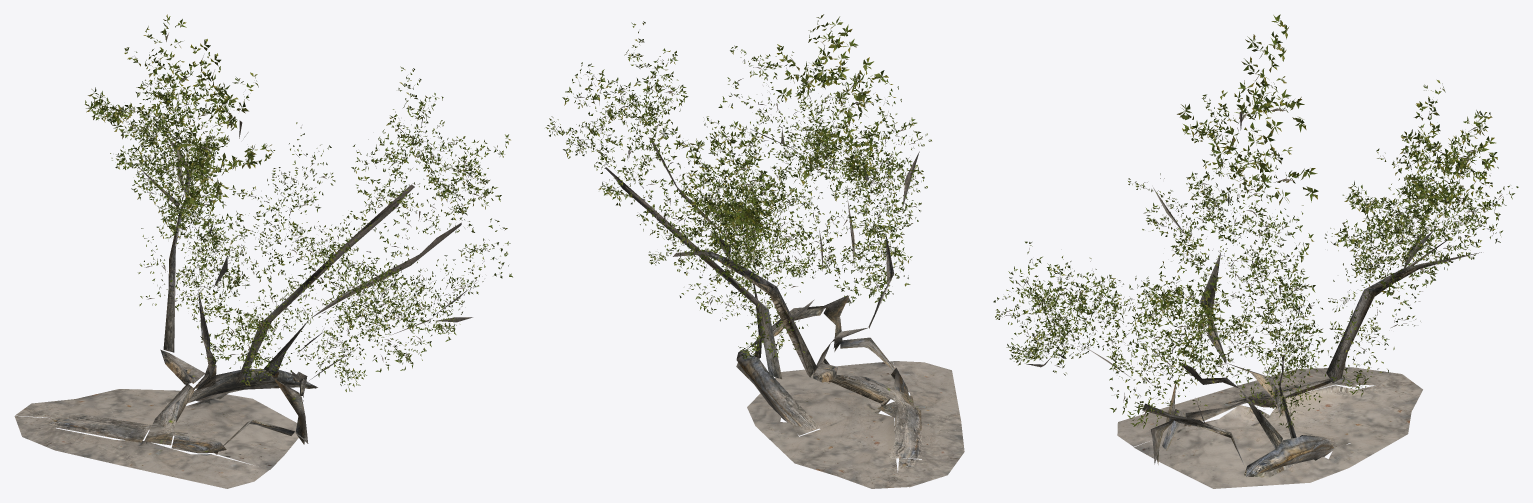
The model's file is island_tree_03_lod0.gltf.
3 views of the same model, side by side, from view 1: azimuth 30°, elevation 25°; view 2: azimuth 150°, elevation 25°; view 3: azimuth 270°, elevation 25° (orthographic). The views are drawn at different scales.
Parts seen in each view (by area): view 1: island_tree_03_lod0; view 2: island_tree_03_lod0; view 3: island_tree_03_lod0.
Boxes of the visible parts, box(x1,y1,x2,y2) form: island_tree_03_lod0: box(14, 14, 512, 488); island_tree_03_lod0: box(545, 14, 964, 488); island_tree_03_lod0: box(993, 14, 1518, 488).
Bounding box in the file's own units: 2.94 × 2.61 × 2.89.
Materials: 3 (3 with a texture image).
